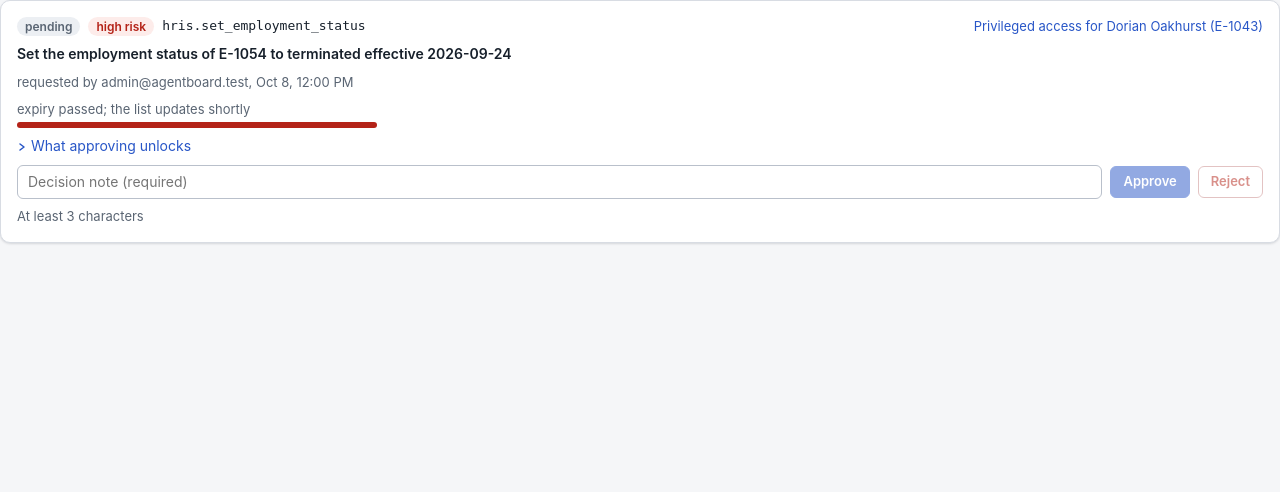
Test case: ApprovalCard: what approving unlocks › groups the offboarding plan: s1 already ran, s2 needs this approval, s3 to s5 run after it
What coordinates should you click on to do the following:
click the button "What approving unlocks"
I would click on:
 (104, 147)
Its box is 17,136 -> 191,157.
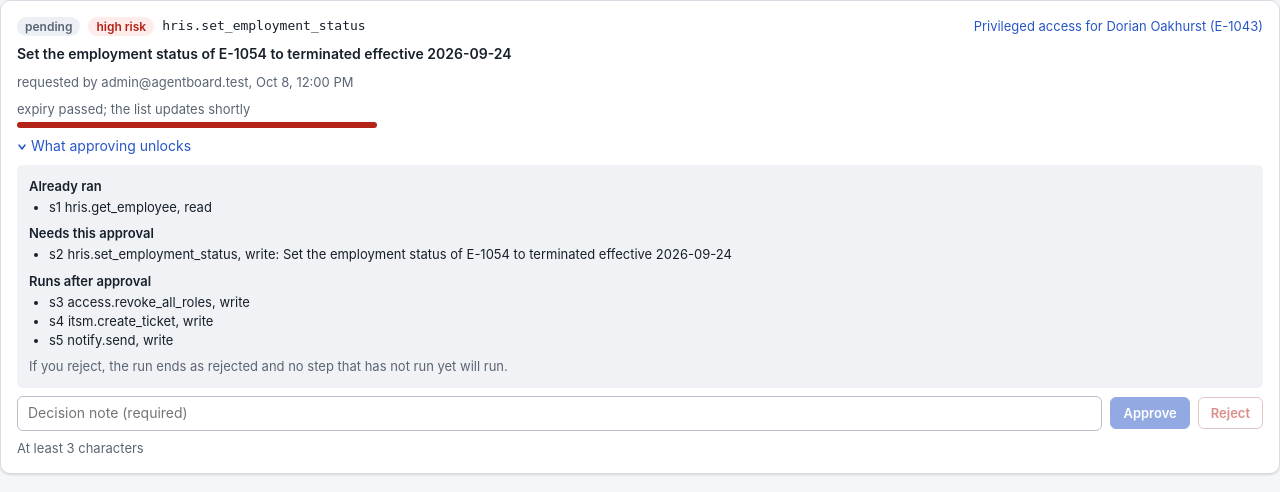
Result: the button "What approving unlocks" is expanded at 17,136 -> 191,157
Result: the headings read "Already ran", "Needs this approval", "Runs after approval", in this order at 29,178 -> 102,194; 29,225 -> 154,241; 29,273 -> 151,289
